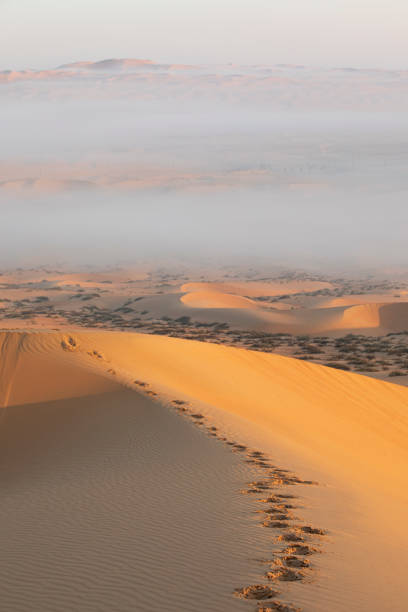human_foot_print: (171, 400, 325, 584), (242, 451, 325, 581), (235, 584, 278, 599), (256, 503, 295, 519), (265, 565, 304, 580), (256, 507, 295, 520), (282, 543, 319, 555), (257, 601, 301, 611), (276, 529, 304, 542), (282, 555, 309, 567), (262, 517, 290, 528), (61, 335, 79, 352), (300, 525, 325, 535), (171, 399, 188, 412), (87, 349, 105, 360), (133, 380, 148, 388), (233, 443, 246, 451), (145, 389, 157, 396), (107, 368, 116, 376)
